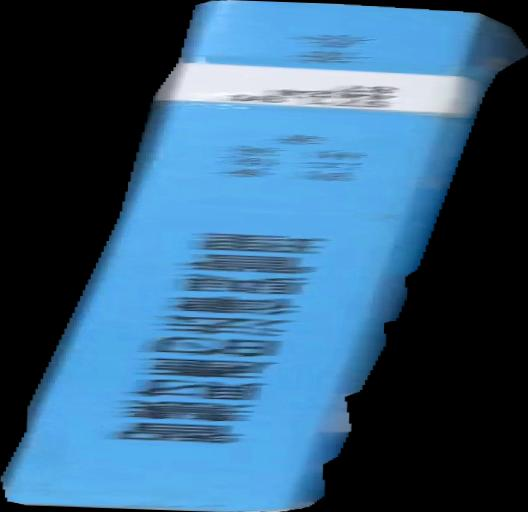reverse: (1, 1, 528, 512)
